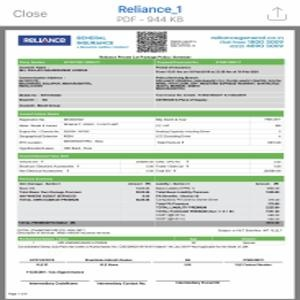image: (18, 36, 73, 48)
table: (17, 177, 286, 227), (19, 59, 284, 109), (17, 109, 287, 154), (15, 151, 284, 178)
text: (210, 33, 286, 50)
